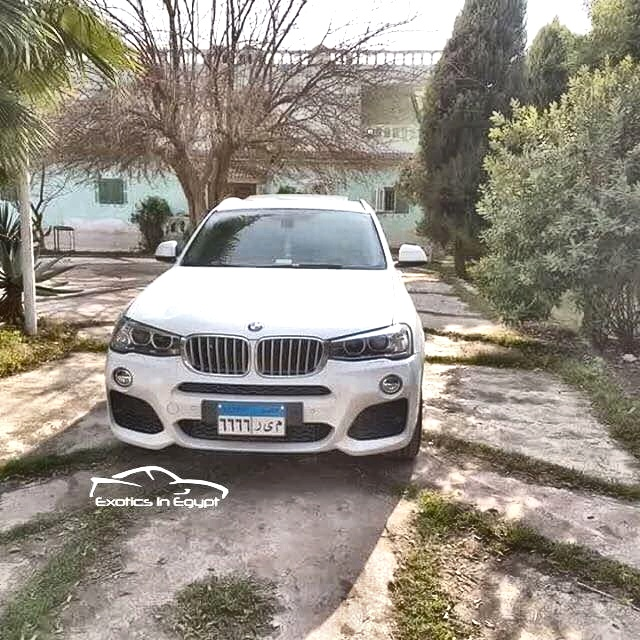License Plate: (214, 399, 288, 439)
